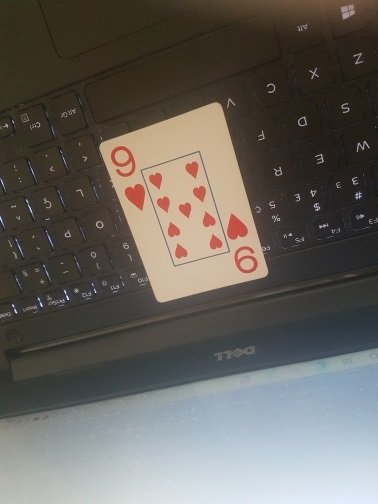nine: (100, 101, 269, 304)
